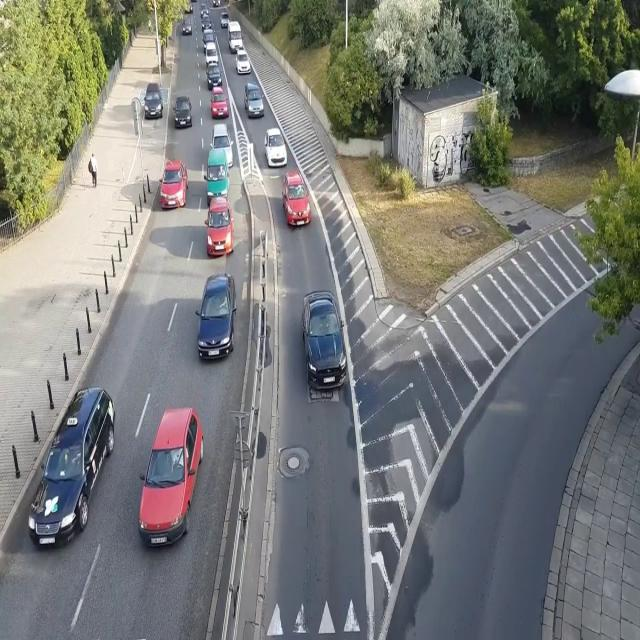car: (26, 386, 116, 552), (136, 406, 204, 548), (300, 291, 348, 392), (196, 272, 238, 360), (280, 168, 312, 229), (204, 194, 234, 257), (160, 158, 188, 212), (210, 124, 235, 168), (262, 128, 288, 168), (243, 81, 265, 120), (144, 82, 163, 119), (172, 96, 192, 128), (210, 86, 229, 118), (206, 62, 224, 89), (234, 49, 251, 74), (202, 30, 216, 51), (180, 16, 193, 36), (200, 14, 211, 32), (220, 12, 230, 26), (199, 2, 209, 16), (184, 3, 193, 14), (212, 0, 220, 8)
van: (204, 148, 232, 203), (227, 22, 245, 52), (203, 43, 220, 66)
